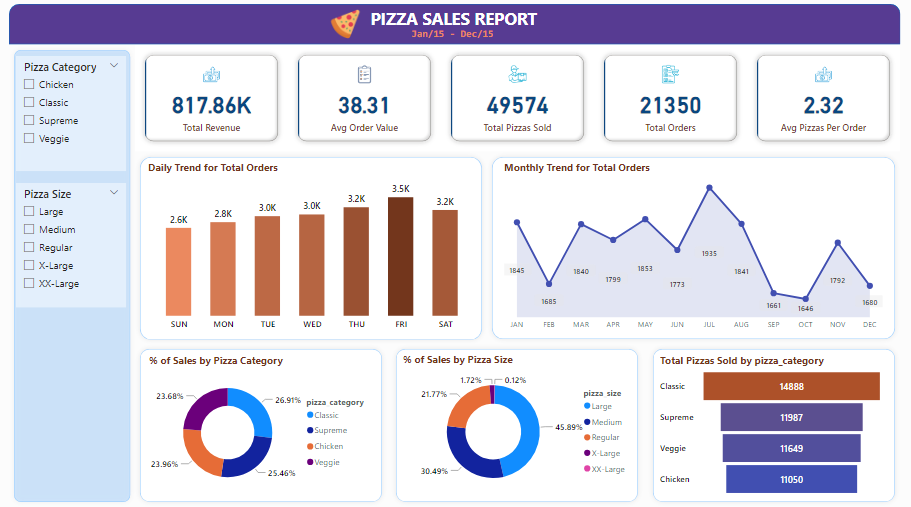

What the dashboard file says about the page in this screenshot:
{"tool":"powerbi","page":{"name":"Page 1","canvas":[1500,820],"ordinal":0},"visuals":[{"type":"cardVisual","fields":{"Data":["public pizza_sales.Total Revenue","public pizza_sales.Avg Order Value","public pizza_sales.Total Pizzas Sold","public pizza_sales.Total Orders","public pizza_sales.Avg Pizzas Per Order"]},"box":[237.1,77.1,1230,171.4],"z":0},{"type":"shape","box":[33.3,11.7,1433.3,65],"z":1000},{"type":"textbox","box":[605,11.7,288.3,48.3],"z":2000},{"type":"textbox","box":[641.7,45,210,31.7],"z":3000},{"type":"image","box":[543.3,15,61.7,58.3],"z":4000},{"type":"shape","box":[237.1,248.6,565.7,310],"z":5000},{"type":"columnChart","title":"Daily Trend for Total Orders","fields":{"Category":["public pizza_sales.Order Day"],"Y":["public pizza_sales.Total Orders"]},"box":[252.9,262.9,538.6,281.4],"z":6000},{"type":"shape","box":[802.3,249.2,664,308.7],"z":7000},{"type":"stackedAreaChart","title":"Monthly Trend for Total Orders","fields":{"Category":["public pizza_sales.Order Month"],"Y":["public pizza_sales.Total Orders"]},"box":[824.9,262.6,618.7,282],"z":8000},{"type":"shape","box":[236.7,558.3,405,261.7],"z":9000},{"type":"shape","box":[648.3,558.3,405,261.7],"z":10000},{"type":"shape","box":[1061.7,558.3,405,261.7],"z":11000},{"type":"donutChart","title":"% of Sales by Pizza Category","fields":{"Category":["public pizza_sales.pizza_category"],"Y":["public pizza_sales.Total Revenue"]},"box":[253.3,571.7,371.7,235],"z":12000},{"type":"donutChart","title":"% of Sales by Pizza Size","fields":{"Y":["public pizza_sales.Total Revenue"],"Category":["public pizza_sales.pizza_size"]},"box":[662.5,571.2,380,235],"z":13000},{"type":"funnel","fields":{"Category":["public pizza_sales.pizza_category"],"Y":["public pizza_sales.Total Pizzas Sold"]},"box":[1075,571.7,368.3,235],"z":14000},{"type":"shape","box":[33.8,77.3,203,742.7],"z":15000},{"type":"slicer","fields":{"Values":["public pizza_sales.pizza_category"]},"box":[45.1,95.1,177.2,185.3],"z":16000},{"type":"slicer","fields":{"Values":["public pizza_sales.pizza_size"]},"box":[45.1,299.7,177.2,199.8],"z":17000}]}

Visuals, with their boxes in screenshot pixels (x1, y1, x2, y2), scaled from the page's 1500x820 canvas onto the 911x507 screenshot:
cardVisual - public pizza_sales.Total Revenue x public pizza_sales.Avg Order Value: <region>144, 48, 891, 154</region>
shape: <region>20, 7, 891, 47</region>
textbox: <region>367, 7, 543, 37</region>
textbox: <region>390, 28, 517, 47</region>
image: <region>330, 9, 367, 45</region>
shape: <region>144, 154, 488, 345</region>
"Daily Trend for Total Orders" columnChart: <region>154, 163, 481, 337</region>
shape: <region>487, 154, 891, 345</region>
"Monthly Trend for Total Orders" stackedAreaChart: <region>501, 162, 877, 337</region>
shape: <region>144, 345, 390, 506</region>
shape: <region>394, 345, 640, 506</region>
shape: <region>645, 345, 891, 506</region>
"% of Sales by Pizza Category" donutChart: <region>154, 353, 380, 499</region>
"% of Sales by Pizza Size" donutChart: <region>402, 353, 633, 498</region>
funnel - public pizza_sales.pizza_category x public pizza_sales.Total Pizzas Sold: <region>653, 353, 877, 499</region>
shape: <region>21, 48, 144, 506</region>
slicer - public pizza_sales.pizza_category: <region>27, 59, 135, 173</region>
slicer - public pizza_sales.pizza_size: <region>27, 185, 135, 309</region>
